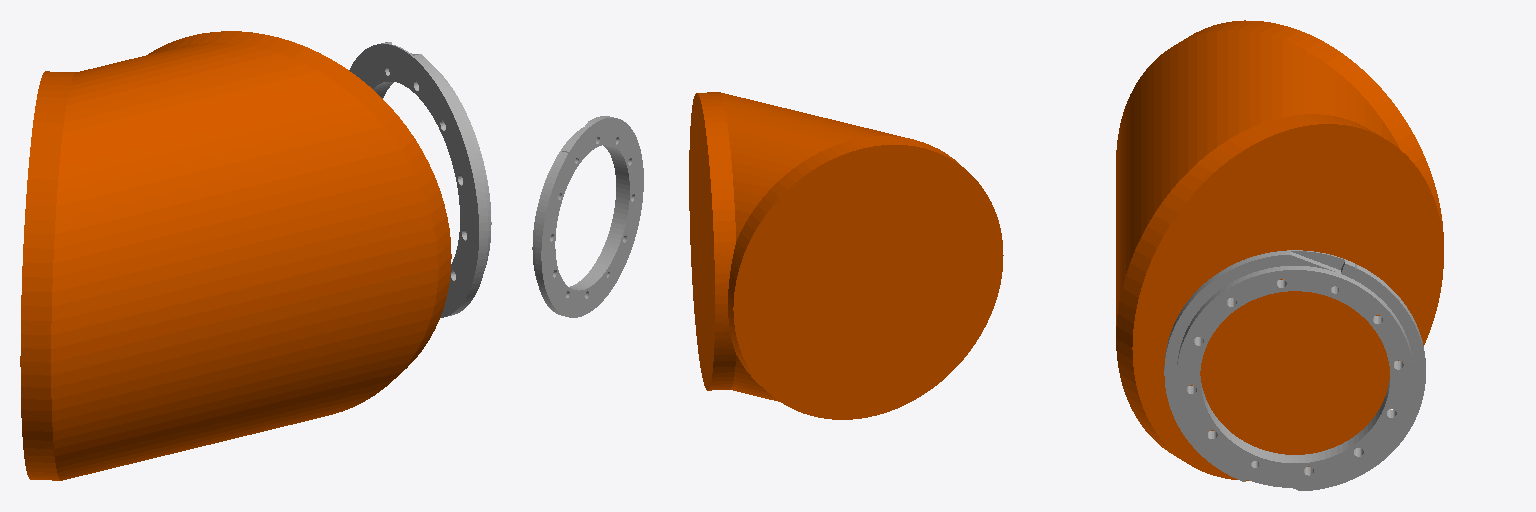
robot.urdf — IRB5510_12:
<?xml version="1.0" ?>
<robot name="IRB5510_12">

<link name="base_link">
  <inertial>
    <origin xyz="-0.2198204163586881 0.00042151470984517657 0.30730920125871913" rpy="0 0 0"/>
    <mass value="546.7722107426896"/>
    <inertia ixx="27.709277" iyy="24.796335" izz="29.080443" ixy="0.039251" iyz="-0.014815" ixz="-3.497016"/>
  </inertial>
  <visual>
    <origin xyz="0 0 0" rpy="0 0 0"/>
    <geometry>
      <mesh filename="meshes/base_link.stl" scale="0.001 0.001 0.001"/>
    </geometry>
  </visual>
  <collision>
    <origin xyz="0 0 0" rpy="0 0 0"/>
    <geometry>
      <mesh filename="meshes/base_link.stl" scale="0.001 0.001 0.001"/>
    </geometry>
  </collision>
</link>

<link name="link1">
  <inertial>
    <origin xyz="-0.002088148900103687 -0.0142436224415375 0.297387949872579" rpy="0 0 0"/>
    <mass value="760.5077067741645"/>
    <inertia ixx="32.796717" iyy="38.935759" izz="27.690645" ixy="0.107341" iyz="4.755505" ixz="0.176021"/>
  </inertial>
  <visual>
    <origin xyz="-0.0 -0.0 -0.484" rpy="0 0 0"/>
    <geometry>
      <mesh filename="meshes/link1.stl" scale="0.001 0.001 0.001"/>
    </geometry>
  </visual>
  <collision>
    <origin xyz="-0.0 -0.0 -0.484" rpy="0 0 0"/>
    <geometry>
      <mesh filename="meshes/link1.stl" scale="0.001 0.001 0.001"/>
    </geometry>
  </collision>
</link>

<link name="link2">
  <inertial>
    <origin xyz="0.00012951666553344317 -0.09623909065982458 0.6070805314545756" rpy="0 0 0"/>
    <mass value="534.057436168823"/>
    <inertia ixx="82.304409" iyy="84.049941" izz="6.185354" ixy="0.051067" iyz="1.13366" ixz="0.042148"/>
  </inertial>
  <visual>
    <origin xyz="0.0 0.231 -0.92" rpy="0 0 0"/>
    <geometry>
      <mesh filename="meshes/link2.stl" scale="0.001 0.001 0.001"/>
    </geometry>
  </visual>
  <collision>
    <origin xyz="0.0 0.231 -0.92" rpy="0 0 0"/>
    <geometry>
      <mesh filename="meshes/link2.stl" scale="0.001 0.001 0.001"/>
    </geometry>
  </collision>
</link>

<link name="link3">
  <inertial>
    <origin xyz="0.3438035099812337 0.1378290112414401 3.352144561930004e-08" rpy="0 0 0"/>
    <mass value="510.571285741552"/>
    <inertia ixx="4.896184" iyy="71.120767" izz="70.249143" ixy="-3.753696" iyz="0.0" ixz="9e-06"/>
  </inertial>
  <visual>
    <origin xyz="-0.0 0.217 -2.02" rpy="0 0 0"/>
    <geometry>
      <mesh filename="meshes/link3.stl" scale="0.001 0.001 0.001"/>
    </geometry>
  </visual>
  <collision>
    <origin xyz="-0.0 0.217 -2.02" rpy="0 0 0"/>
    <geometry>
      <mesh filename="meshes/link3.stl" scale="0.001 0.001 0.001"/>
    </geometry>
  </collision>
</link>

<link name="link4">
  <inertial>
    <origin xyz="0.04504418824683665 0.015640363607786298 -5.6340825782541515e-08" rpy="0 0 0"/>
    <mass value="13.246564877496244"/>
    <inertia ixx="0.043539" iyy="0.036823" izz="0.029169" ixy="-0.006373" iyz="0.0" ixz="-0.0"/>
  </inertial>
  <visual>
    <origin xyz="-1.219 0.0 -2.02" rpy="0 0 0"/>
    <geometry>
      <mesh filename="meshes/link4.stl" scale="0.001 0.001 0.001"/>
    </geometry>
  </visual>
  <collision>
    <origin xyz="-1.219 0.0 -2.02" rpy="0 0 0"/>
    <geometry>
      <mesh filename="meshes/link4.stl" scale="0.001 0.001 0.001"/>
    </geometry>
  </collision>
</link>

<link name="link5">
  <inertial>
    <origin xyz="0.059936040885649744 -0.022501914863573776 9.342077778029534e-08" rpy="0 0 0"/>
    <mass value="22.90378370207612"/>
    <inertia ixx="0.078073" iyy="0.096705" izz="0.075709" ixy="0.0" iyz="0.0" ixz="0.0"/>
  </inertial>
  <visual>
    <origin xyz="-1.293415 0.003441 -2.02" rpy="0 0 0"/>
    <geometry>
      <mesh filename="meshes/link5.stl" scale="0.001 0.001 0.001"/>
    </geometry>
  </visual>
  <collision>
    <origin xyz="-1.293415 0.003441 -2.02" rpy="0 0 0"/>
    <geometry>
      <mesh filename="meshes/link5.stl" scale="0.001 0.001 0.001"/>
    </geometry>
  </collision>
</link>

<link name="link5b">
  <inertial>
    <origin xyz="0.02732309547874623 0.0150661145565937 2.519886863616705e-07" rpy="0 0 0"/>
    <mass value="11.027488801145376"/>
    <inertia ixx="0.031527" iyy="0.028228" izz="0.022716" ixy="0.005894" iyz="0.0" ixz="-0.0"/>
  </inertial>
  <visual>
    <origin xyz="-1.413287 0.003441 -2.02" rpy="0 0 0"/>
    <geometry>
      <mesh filename="meshes/link5b.stl" scale="0.001 0.001 0.001"/>
    </geometry>
  </visual>
  <collision>
    <origin xyz="-1.413287 0.003441 -2.02" rpy="0 0 0"/>
    <geometry>
      <mesh filename="meshes/link5b.stl" scale="0.001 0.001 0.001"/>
    </geometry>
  </collision>
</link>

<link name="flange">
  <inertial>
    <origin xyz="-0.005525322762831575 -7.898034053255287e-07 -1.423777321374331e-06" rpy="0 0 0"/>
    <mass value="0.3574993425525093"/>
    <inertia ixx="0.001069" iyy="0.000527" izz="0.000548" ixy="-0.0" iyz="5e-06" ixz="-0.0"/>
  </inertial>
  <visual>
    <origin xyz="-1.5001 0.0 -2.02" rpy="0 0 0"/>
    <geometry>
      <mesh filename="meshes/flange.stl" scale="0.001 0.001 0.001"/>
    </geometry>
  </visual>
  <collision>
    <origin xyz="-1.5001 0.0 -2.02" rpy="0 0 0"/>
    <geometry>
      <mesh filename="meshes/flange.stl" scale="0.001 0.001 0.001"/>
    </geometry>
  </collision>
</link>

<joint name="joint_1" type="revolute">
  <origin xyz="0.0 0.0 0.484" rpy="0 0 0"/>
  <parent link="base_link"/>
  <child link="link1"/>
  <axis xyz="0.0 0.0 -1.0"/>
  <limit lower="-6.283" upper="6.283" effort="0" velocity="1.745"/>
</joint>

<joint name="joint_2" type="revolute">
  <origin xyz="-0.0 -0.231 0.436" rpy="0 0 0"/>
  <parent link="link1"/>
  <child link="link2"/>
  <axis xyz="0.0 1.0 0.0"/>
  <limit lower="-6.283" upper="6.283" effort="0" velocity="1.745"/>
</joint>

<joint name="joint_3" type="revolute">
  <origin xyz="0.0 0.014 1.1" rpy="0 0 0"/>
  <parent link="link2"/>
  <child link="link3"/>
  <axis xyz="0.0 1.0 0.0"/>
  <limit lower="-6.283" upper="6.283" effort="0" velocity="1.745"/>
</joint>

<joint name="joint_4" type="revolute">
  <origin xyz="1.219 0.217 0.0" rpy="0 0 0"/>
  <parent link="link3"/>
  <child link="link4"/>
  <axis xyz="1.0 0.0 0.0"/>
  <limit lower="-1.309" upper="1.309" effort="0" velocity="8.116"/>
</joint>

<joint name="joint_5" type="revolute">
  <origin xyz="0.074415 -0.003441 0.0" rpy="0 0 0"/>
  <parent link="link4"/>
  <child link="link5"/>
  <axis xyz="0.819152 -0.573576 0.0"/>
  <limit lower="-1.309" upper="1.309" effort="0" velocity="6.109"/>
</joint>

<joint name="joint_6" type="revolute">
  <origin xyz="0.119872 0.0 0.0" rpy="0 0 0"/>
  <parent link="link5"/>
  <child link="link5b"/>
  <axis xyz="0.819152 0.573576 0.0"/>
  <limit lower="-8.029" upper="8.029" effort="0" velocity="9.337"/>
</joint>

<joint name="joint_6b" type="revolute">
  <origin xyz="0.086813 0.003441 0.0" rpy="0 0 0"/>
  <parent link="link5b"/>
  <child link="flange"/>
  <axis xyz="-1.0 0.0 -0.0"/>
  <limit upper="0.0" lower="0.0" effort="100" velocity="100"/>
</joint>

<link name="tool0">
</link>

<joint name="flange-tool0" type="fixed">
  <origin xyz="0 0 0" rpy="0 0 0"/>
  <parent link="flange"/>
  <child link="tool0"/>
</joint>

</robot>

--- What the picture shows (computed from the rendered views, not written in the file) ---
The picture shows the robot from 3 angles, left to right: view 1: azimuth 30°, elevation 25°; view 2: azimuth 150°, elevation 25°; view 3: azimuth 270°, elevation 25°; orthographic projection.
Model IRB5510_12 with 9 links and 8 joints (7 revolute, 1 fixed), rooted at base_link, posed every joint at zero.
Visible links, largest first — view 1: link5, flange; view 2: link5, flange; view 3: link5, flange.
Link boxes in pixels (<box>): link5: <box>20,31,451,480</box>; flange: <box>349,42,491,317</box>; link5: <box>689,92,1003,419</box>; flange: <box>532,116,643,317</box>; link5: <box>1116,20,1443,480</box>; flange: <box>1164,250,1425,490</box>.
Bounding box of the posed robot: 0.26 × 0.1604 × 0.186 m (x, y, z).
2 mesh visuals loaded from 8 distinct referenced files (2 binary STL); not drawn: 6 (reference not matched to a file when rendering).